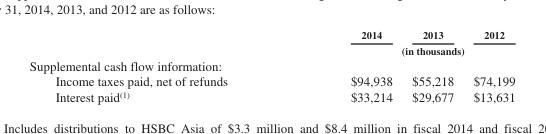table: (28, 28, 514, 103)
table column: (28, 28, 288, 103), (288, 28, 401, 103), (401, 28, 462, 103), (462, 28, 514, 103)
table column header: (28, 28, 514, 57)
table projected row header: (28, 57, 514, 72)
table row: (28, 72, 514, 88), (28, 42, 514, 57), (28, 57, 514, 72), (28, 88, 514, 103), (28, 28, 514, 42)
table spanning cell: (288, 42, 514, 57)
